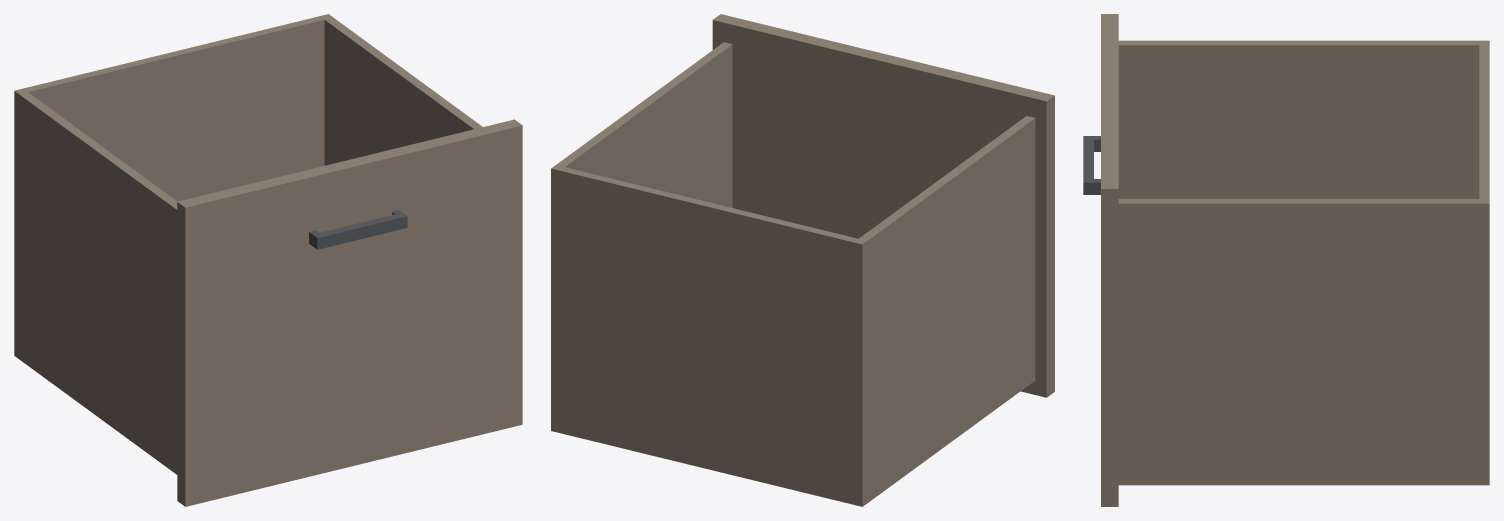
The model's file is Door2_C5_06.fbx.
3 renders of one model, left to right at view 1: azimuth 30°, elevation 25°; view 2: azimuth 150°, elevation 25°; view 3: azimuth 270°, elevation 25°, orthographic. The views are drawn at different scales.
Parts seen in each view (by area): view 1: Door2_C5_06; view 2: Door2_C5_06; view 3: Door2_C5_06.
Part boxes in pixels (x1,y1,x2,y2): Door2_C5_06: [14, 14, 522, 506]; Door2_C5_06: [551, 14, 1054, 506]; Door2_C5_06: [1083, 14, 1489, 506].
Size of the model in its own units: 59 by 50 by 57.89.
